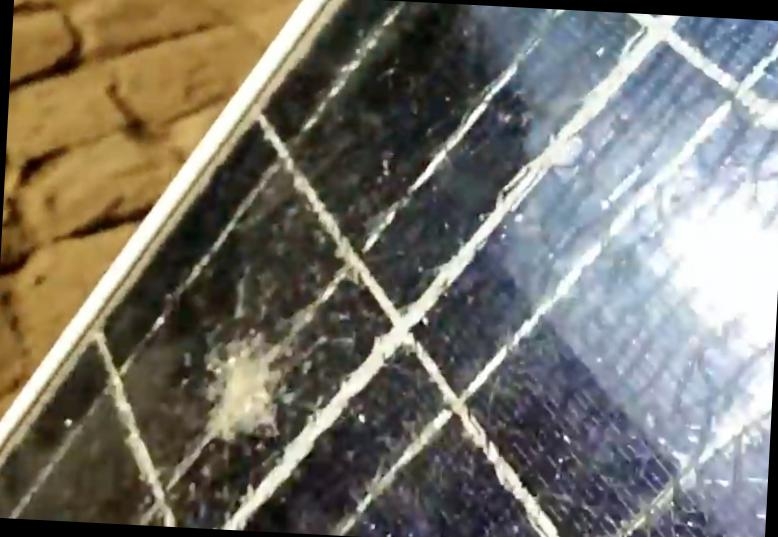Crack: (308, 2, 777, 536), (177, 303, 316, 468)
